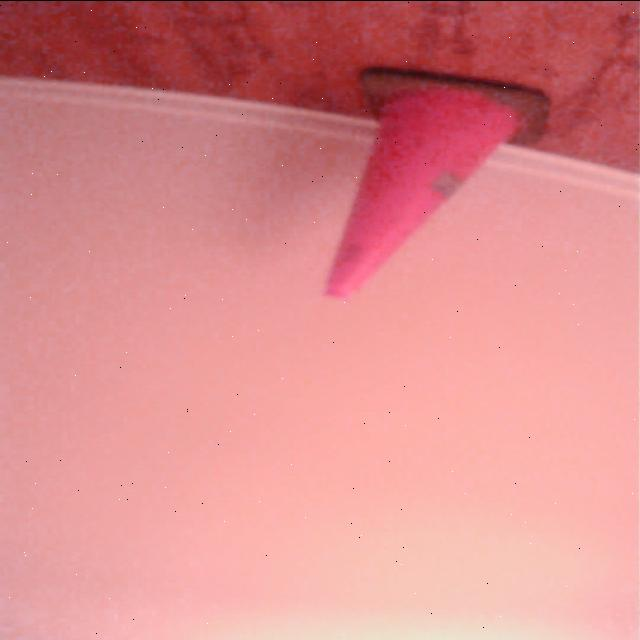traffic cone: (317, 62, 560, 303)
